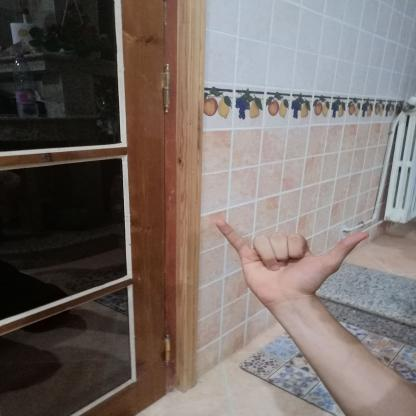YA: (196, 200, 383, 311)
